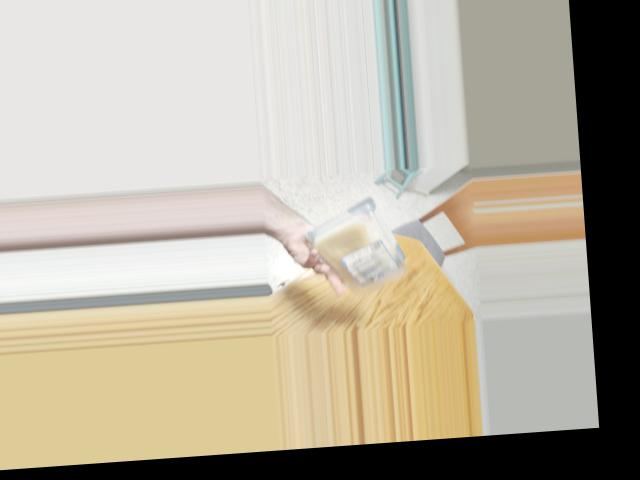cheese: (306, 200, 414, 287)
